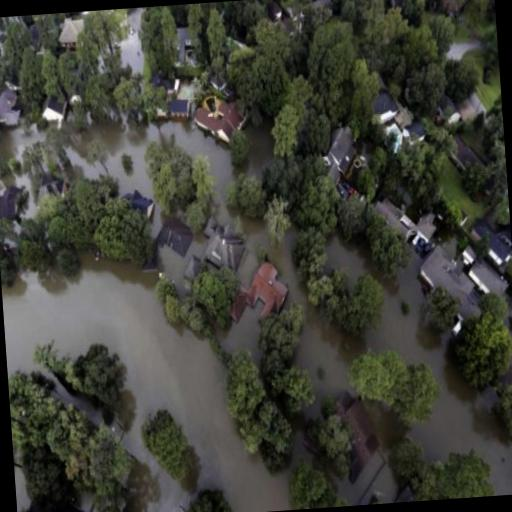flood: (70, 121, 512, 506), (1, 254, 291, 512), (216, 303, 262, 364), (158, 238, 207, 293), (0, 166, 45, 217), (0, 126, 43, 159), (14, 469, 29, 512)
house: (198, 206, 248, 276), (237, 260, 290, 324), (340, 394, 382, 474), (322, 122, 358, 184), (154, 212, 198, 260), (194, 103, 242, 145), (58, 11, 90, 58), (24, 491, 86, 512), (484, 229, 512, 265), (374, 93, 402, 123), (0, 88, 20, 129), (40, 96, 65, 126), (0, 186, 21, 220), (132, 191, 152, 219), (170, 99, 190, 120)
